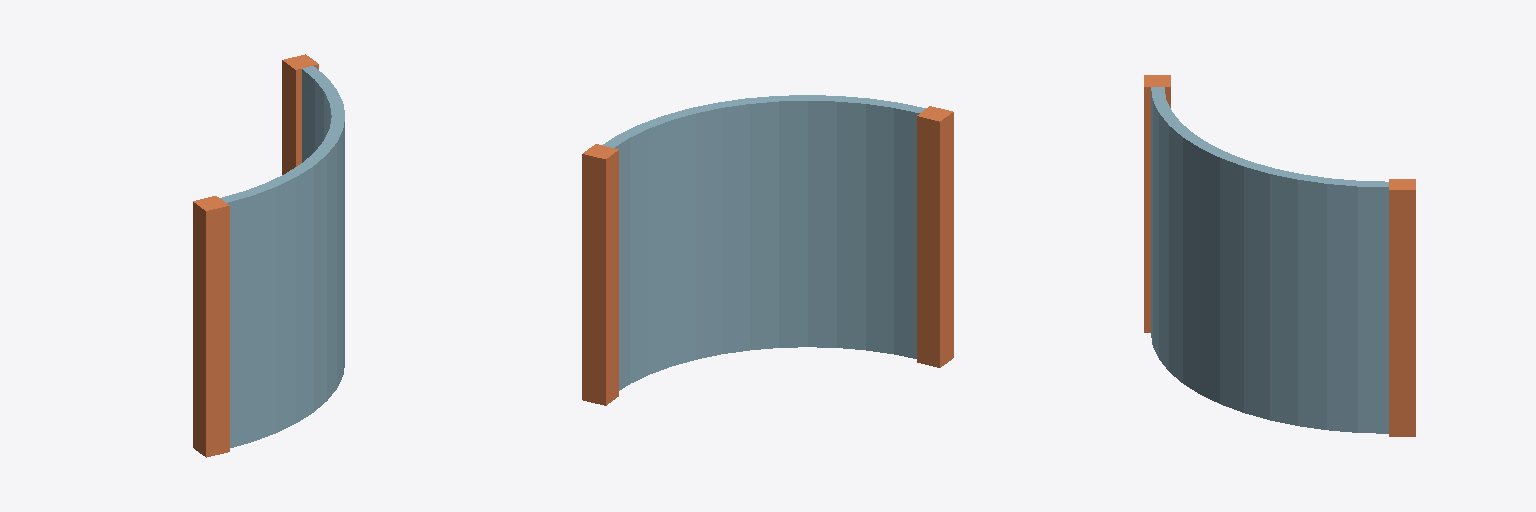
The model's file is wallCurved.obj.
3 views of the same model, side by side, from view 1: azimuth 30°, elevation 25°; view 2: azimuth 150°, elevation 25°; view 3: azimuth 270°, elevation 25° (orthographic).
Parts seen in each view (by area): view 1: wallCurved; view 2: wallCurved; view 3: wallCurved.
Part boxes in pixels (bbox=[...]): wallCurved: bbox=[193, 54, 344, 457]; wallCurved: bbox=[582, 95, 953, 405]; wallCurved: bbox=[1144, 75, 1415, 436].
Bounding box in the file's own units: 1 × 1 × 1.